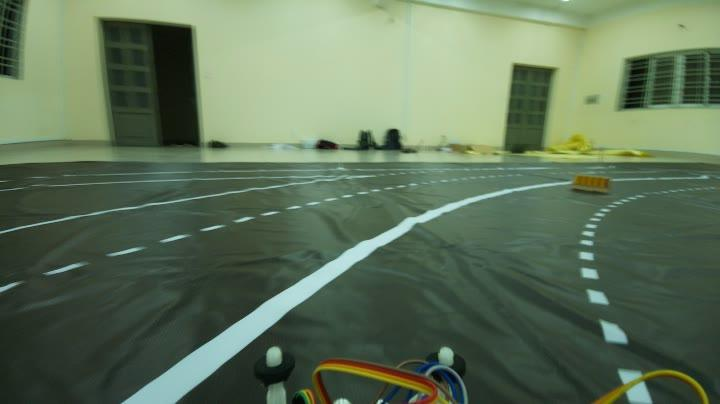roadblock: (567, 166, 614, 197)
